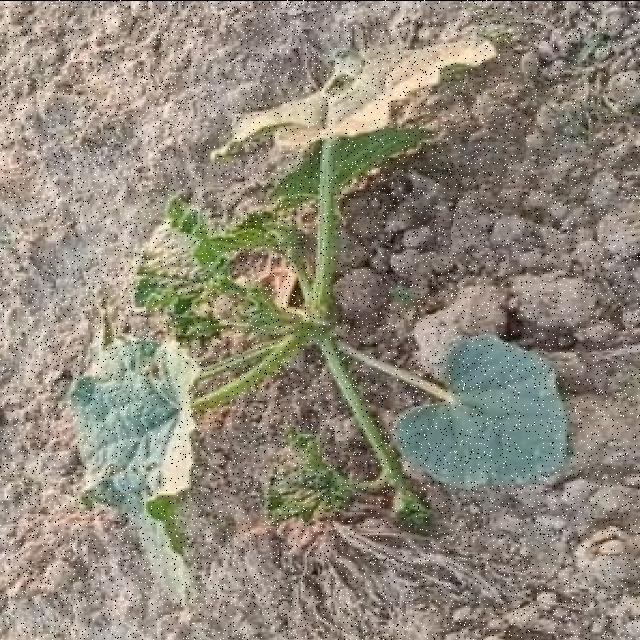plant: (71, 38, 567, 598)
